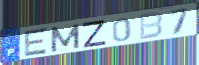0: (111, 17, 134, 43)
7: (169, 6, 191, 35)
B: (138, 11, 164, 41)
E: (23, 26, 50, 58)
M: (49, 22, 82, 54)
Z: (80, 19, 108, 49)
